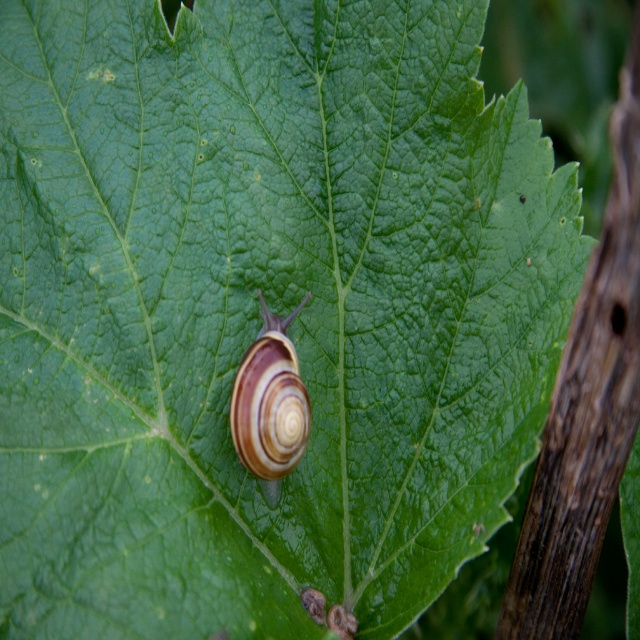Snail: (228, 289, 316, 512)
